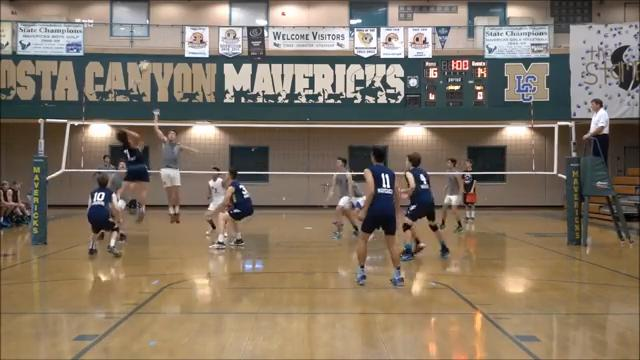Attack: (102, 120, 150, 229)
Block: (152, 107, 199, 226)
Player: (356, 147, 403, 285), (401, 152, 449, 260), (210, 168, 253, 248), (325, 158, 362, 238), (87, 173, 120, 256), (440, 158, 463, 232), (205, 167, 224, 235), (462, 159, 476, 221), (109, 160, 125, 202)
ball: (137, 59, 152, 75)
